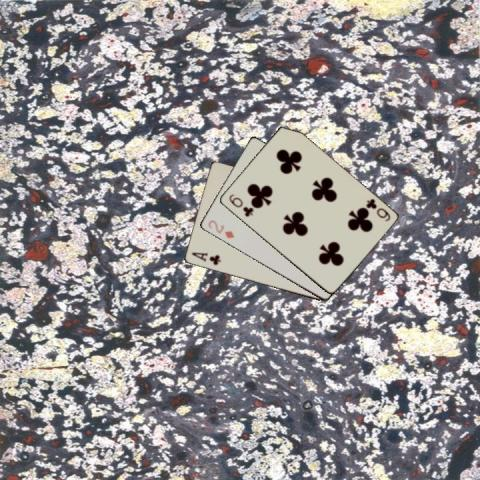2d: (205, 217, 235, 240)
6c: (225, 191, 255, 218), (363, 195, 391, 223)
Ac: (189, 249, 222, 267)
